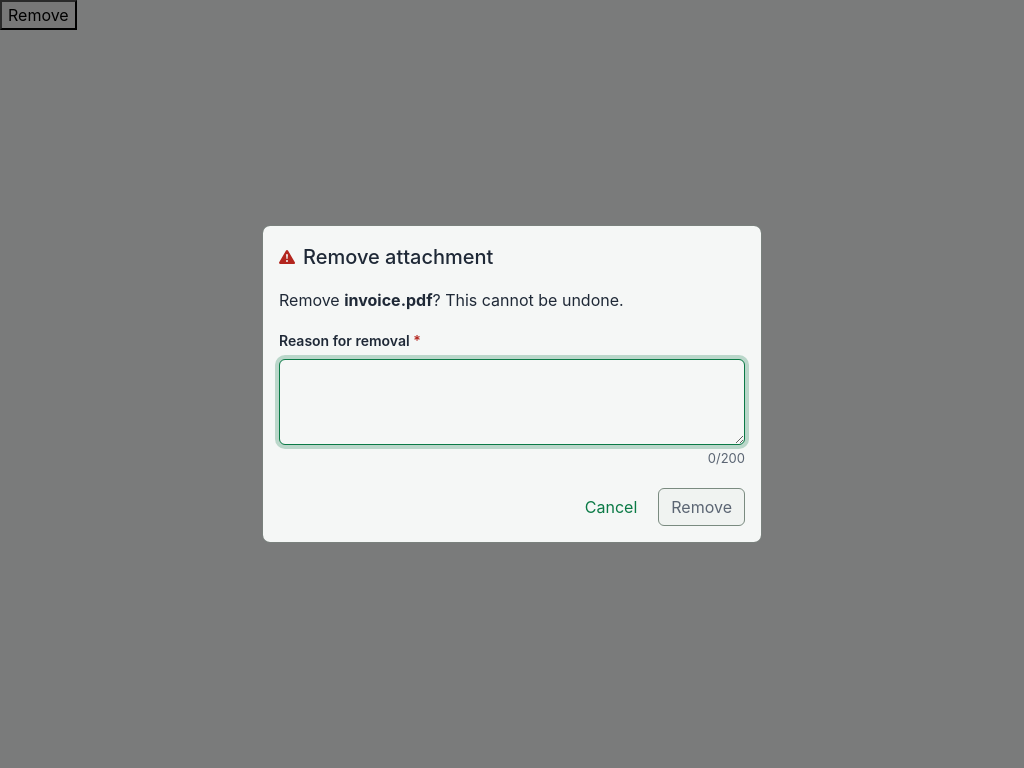
Test case: RemovalConfirmDialog › disables Confirm until the reason is non-empty
The width and height of the screenshot is (1024, 768).
expect the button "Remove" below "/200" is disabled: met, box [658,488,745,526]
Type "Wrong file" into the text box labelled "Reason for removal" at (512, 402), box [279,359,745,445]
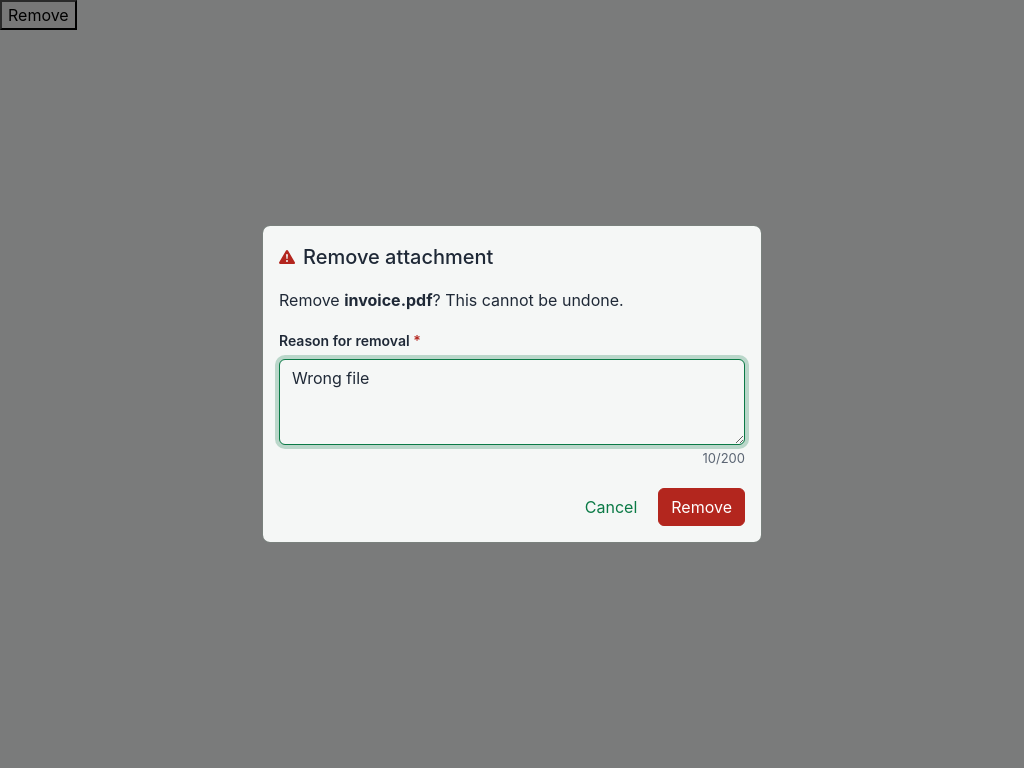
expect the button "Remove" below "10" is enabled: met, box [658,488,745,526]
